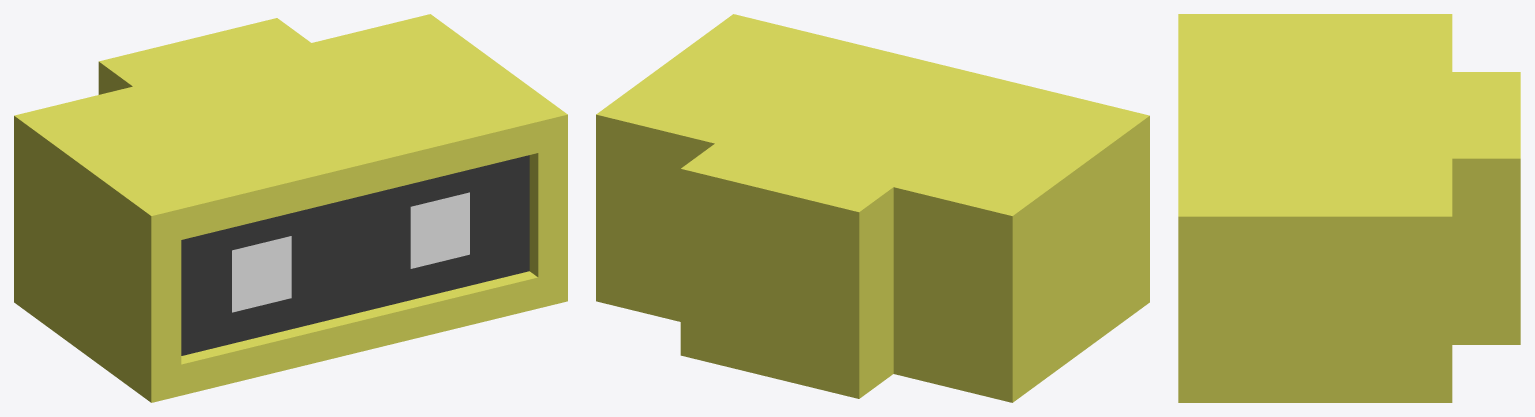
The model's file is walle head.obj.
3 renders of one model, left to right at view 1: azimuth 30°, elevation 25°; view 2: azimuth 150°, elevation 25°; view 3: azimuth 270°, elevation 25°, orthographic.
Bounding box in the file's own units: 28 × 12 × 20.
Materials: 1 (1 with a texture image).
